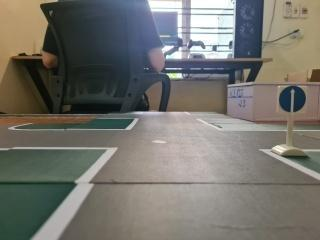straight: (276, 84, 308, 115)
